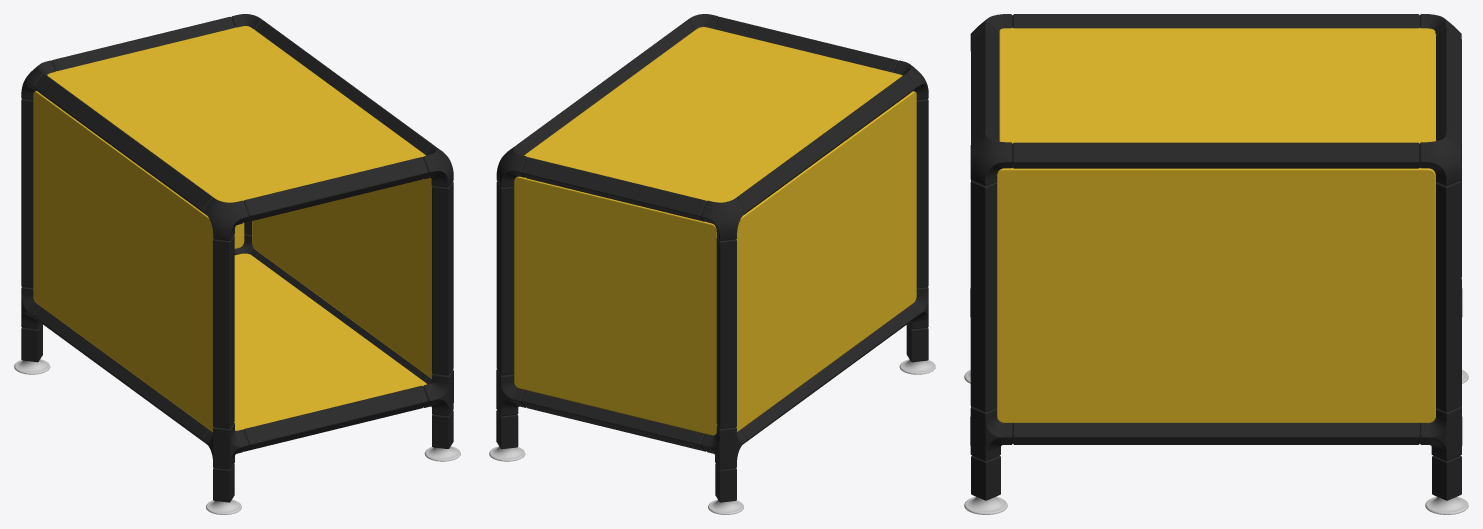
3 renders of one model, left to right at view 1: azimuth 30°, elevation 25°; view 2: azimuth 150°, elevation 25°; view 3: azimuth 270°, elevation 25°, orthographic. The views are drawn at different scales.
Parts seen in each view (by area): view 1: 229x374x229; view 2: 229x374x229; view 3: 229x374x229.
Part boxes in pixels (box(x1,y1,x2,y2)): 229x374x229: box(14, 14, 460, 514); 229x374x229: box(489, 14, 935, 514); 229x374x229: box(964, 14, 1468, 514).
Size of the model in its own units: 0.3189 by 0.3683 by 0.4632.
